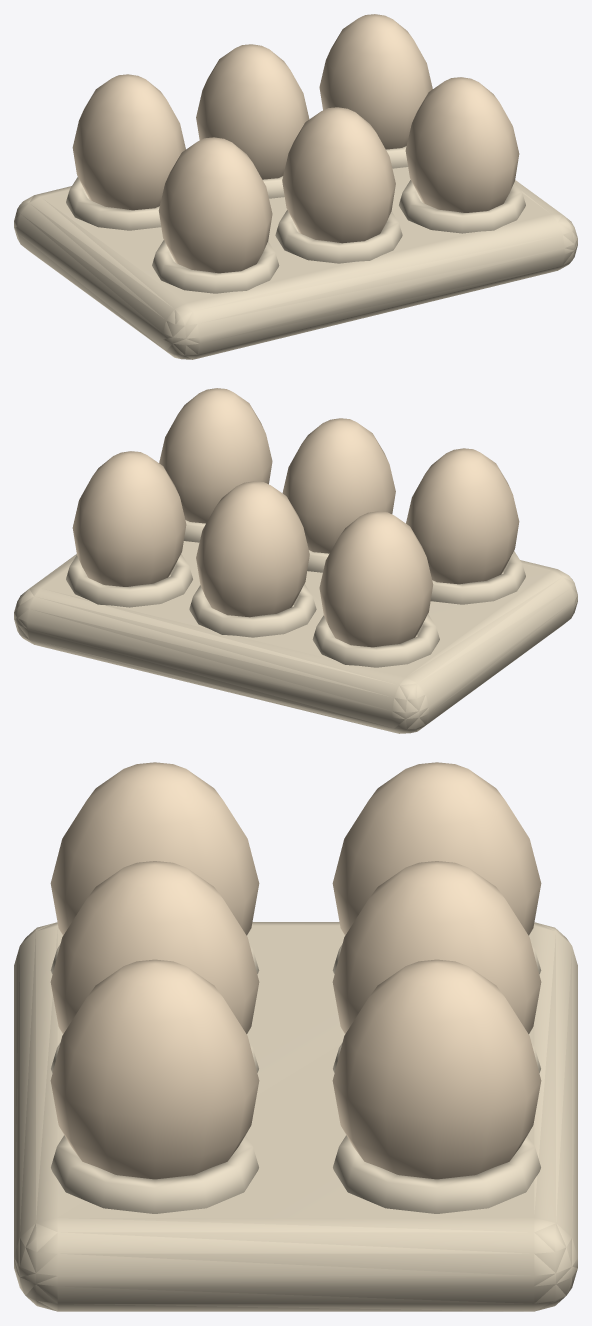
Rendered from egg.glb.
The picture shows the model from 3 angles, top to bottom: view 1: azimuth 30°, elevation 25°; view 2: azimuth 150°, elevation 25°; view 3: azimuth 270°, elevation 25°; orthographic projection. The views are drawn at different scales.
Visible parts, largest first — view 1: body, cap.002, cap, cap.004, cap.001, cap.003, cap.005, body.001, body.003, body.005, body.002; view 2: body, cap.003, cap.001, cap.005, cap, cap.002, cap.004, body.002, body.004, body.006, body.001; view 3: body, cap.004, cap.005, cap, cap.001, cap.002, cap.003, body.005, body.006.
Boxes of the visible parts, x1=… form: body: x1=14, y1=167, x2=577, y2=359; cap.002: x1=282, y1=107, x2=395, y2=243; cap: x1=158, y1=137, x2=272, y2=273; cap.004: x1=405, y1=77, x2=519, y2=212; cap.001: x1=72, y1=74, x2=185, y2=210; cap.003: x1=196, y1=44, x2=309, y2=179; cap.005: x1=319, y1=14, x2=432, y2=149; body.001: x1=152, y1=240, x2=279, y2=293; body.003: x1=275, y1=210, x2=402, y2=263; body.005: x1=399, y1=180, x2=525, y2=233; body.002: x1=66, y1=177, x2=161, y2=230; body: x1=14, y1=541, x2=577, y2=733; cap.003: x1=196, y1=481, x2=309, y2=617; cap.001: x1=319, y1=511, x2=433, y2=647; cap.005: x1=72, y1=451, x2=186, y2=586; cap: x1=406, y1=448, x2=519, y2=584; cap.002: x1=282, y1=418, x2=395, y2=553; cap.004: x1=159, y1=388, x2=272, y2=523; body.002: x1=312, y1=614, x2=439, y2=667; body.004: x1=189, y1=584, x2=316, y2=637; body.006: x1=66, y1=554, x2=192, y2=607; body.001: x1=430, y1=551, x2=525, y2=604; body: x1=14, y1=922, x2=577, y2=1311; cap.004: x1=50, y1=959, x2=259, y2=1179; cap.005: x1=332, y1=959, x2=541, y2=1179; cap: x1=50, y1=762, x2=259, y2=935; cap.001: x1=332, y1=762, x2=541, y2=935; cap.002: x1=50, y1=861, x2=259, y2=1033; cap.003: x1=332, y1=861, x2=541, y2=1033; body.005: x1=51, y1=1135, x2=258, y2=1213; body.006: x1=333, y1=1135, x2=540, y2=1213.
Size of the model in its own units: 0.8 by 0.3366 by 0.58.
